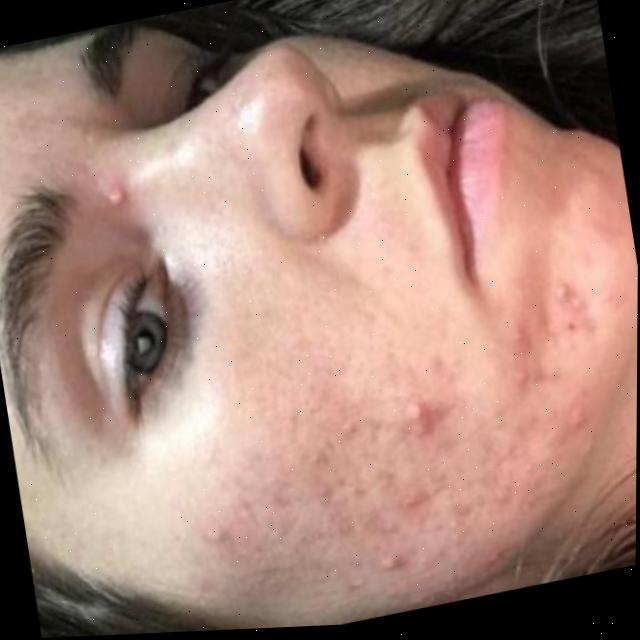Acne: (205, 305, 589, 631)
